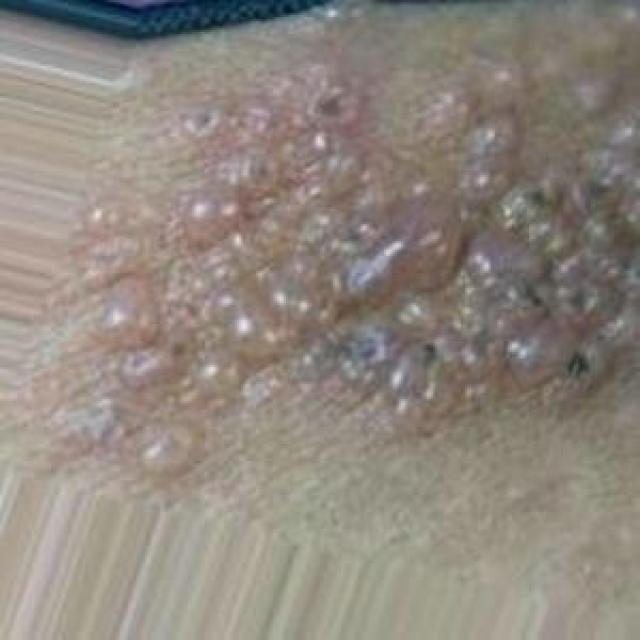Shingles: (94, 56, 640, 482)
